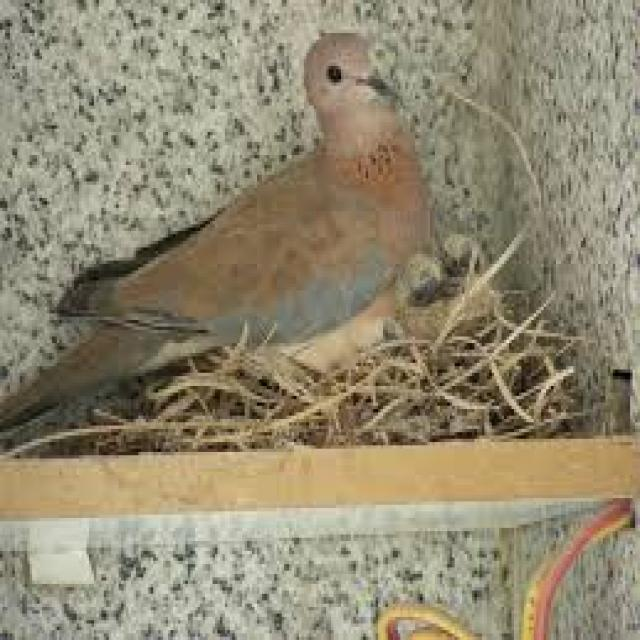bird: (0, 22, 444, 448)
